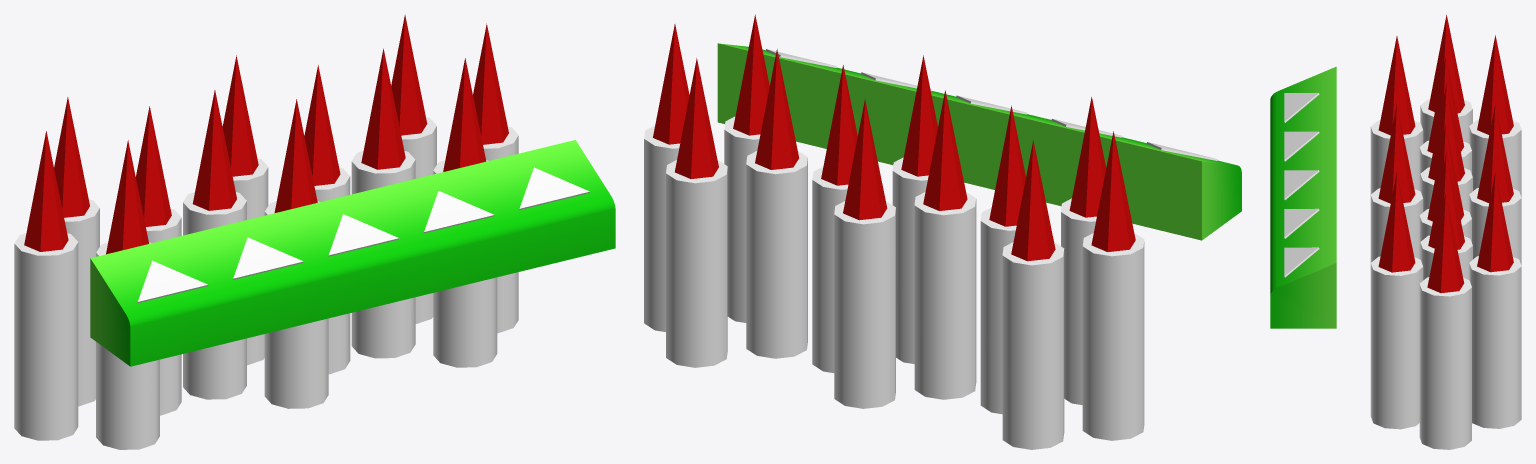
The model's file is boost jump.fbx.
The picture shows the model from 3 angles, left to right: view 1: azimuth 30°, elevation 25°; view 2: azimuth 150°, elevation 25°; view 3: azimuth 270°, elevation 25°; orthographic projection. The views are drawn at different scales.
Parts seen in each view (by area): view 1: spike_fence, boost jump; view 2: spike_fence, boost jump; view 3: spike_fence, boost jump.
Part boxes in pixels (left/top/right/bottom): spike_fence: left=14, top=14, right=518, bottom=449; boost jump: left=90, top=140, right=615, bottom=366; spike_fence: left=644, top=14, right=1144, bottom=449; boost jump: left=717, top=43, right=1241, bottom=240; spike_fence: left=1370, top=15, right=1521, bottom=449; boost jump: left=1270, top=66, right=1336, bottom=328.
Bounding box in the file's own units: 2284 × 1312 × 1212.
Materials: 3 (1 with a texture image).
